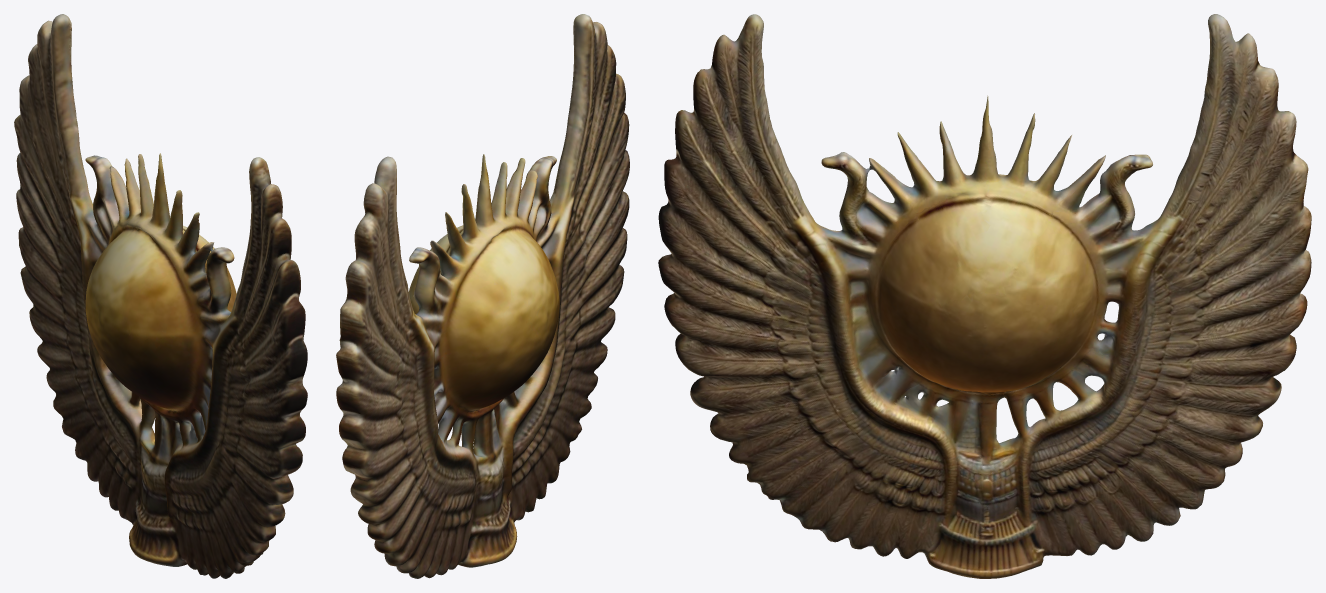
File: winged_sun_3d.glb
The picture shows the model from 3 angles, left to right: view 1: azimuth 30°, elevation 25°; view 2: azimuth 150°, elevation 25°; view 3: azimuth 270°, elevation 25°; orthographic projection. The views are drawn at different scales.
Visible parts, largest first — view 1: tripo_node_16dd69ae-9d35-4e84-86a9-4e5936b28213; view 2: tripo_node_16dd69ae-9d35-4e84-86a9-4e5936b28213; view 3: tripo_node_16dd69ae-9d35-4e84-86a9-4e5936b28213.
Boxes of the visible parts, x1,y1,x2,y2 form: tripo_node_16dd69ae-9d35-4e84-86a9-4e5936b28213: (14,14,307,578); tripo_node_16dd69ae-9d35-4e84-86a9-4e5936b28213: (336,14,629,578); tripo_node_16dd69ae-9d35-4e84-86a9-4e5936b28213: (658,14,1311,578).
Size of the model in its own units: 0.2101 by 0.7367 by 0.7895.
1 material, 1 textured.
